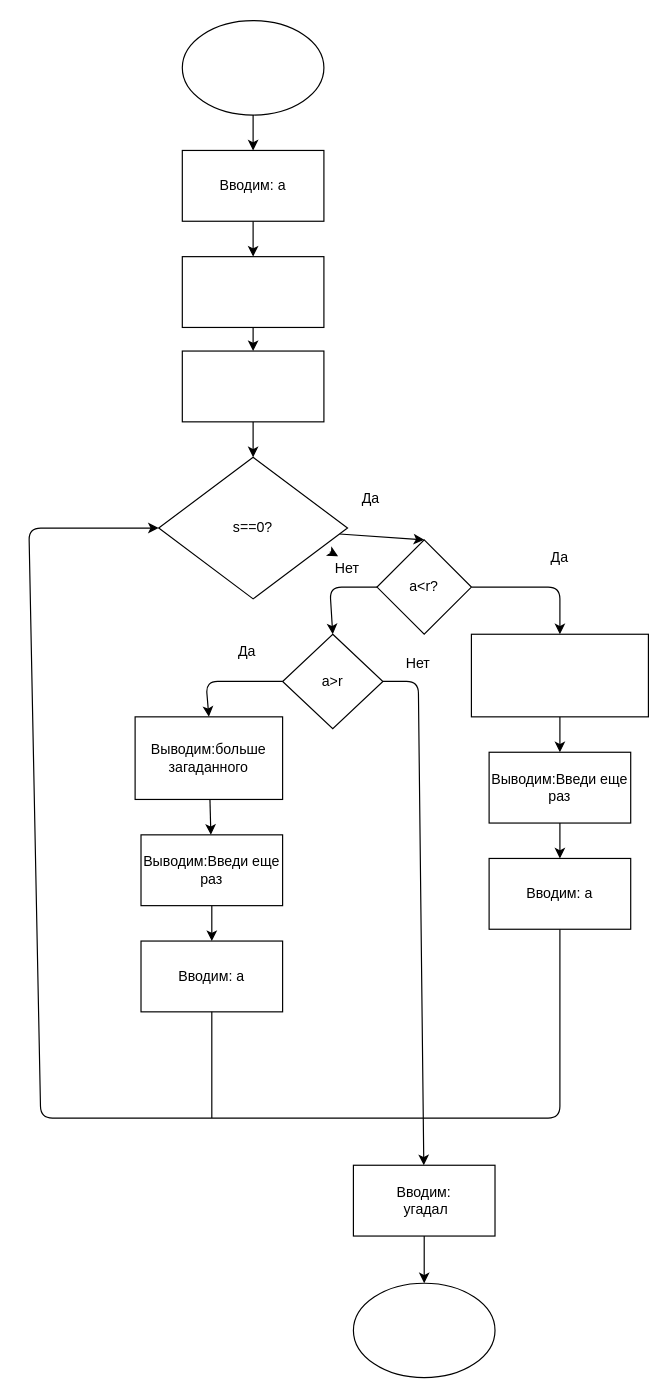
Image size: 669x1398. Some labels were removed from this diagram. The box of each missing label's shape, as (x1, y1, x2, y2) in pixels:
r=рандомное число от 1 до 100: (181, 350, 324, 422)
s=0: (181, 255, 324, 327)
Выводим:меньше загаданного: (470, 633, 648, 717)
Конец: (352, 1282, 495, 1378)
Начало: (181, 19, 324, 115)
